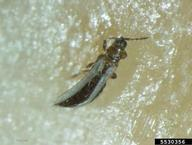Thrips: (49, 33, 137, 112)
